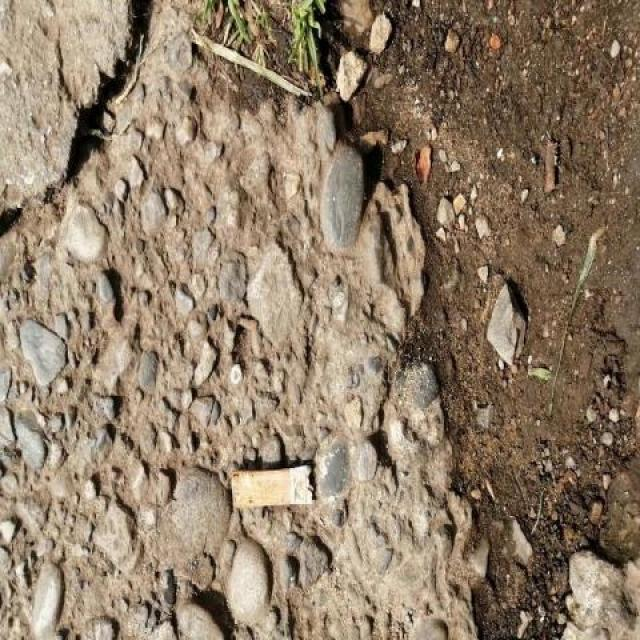non-organic waste: (224, 453, 320, 518)
